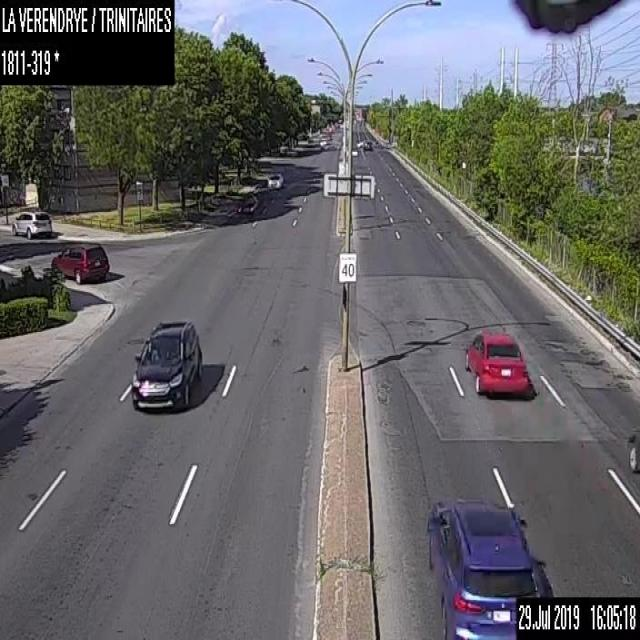vehicle: (425, 497, 553, 639), (131, 316, 204, 409), (463, 327, 530, 396), (50, 240, 109, 284), (11, 208, 52, 239), (624, 423, 639, 472), (236, 193, 259, 215), (266, 170, 284, 190), (363, 139, 372, 149), (319, 137, 327, 146)
